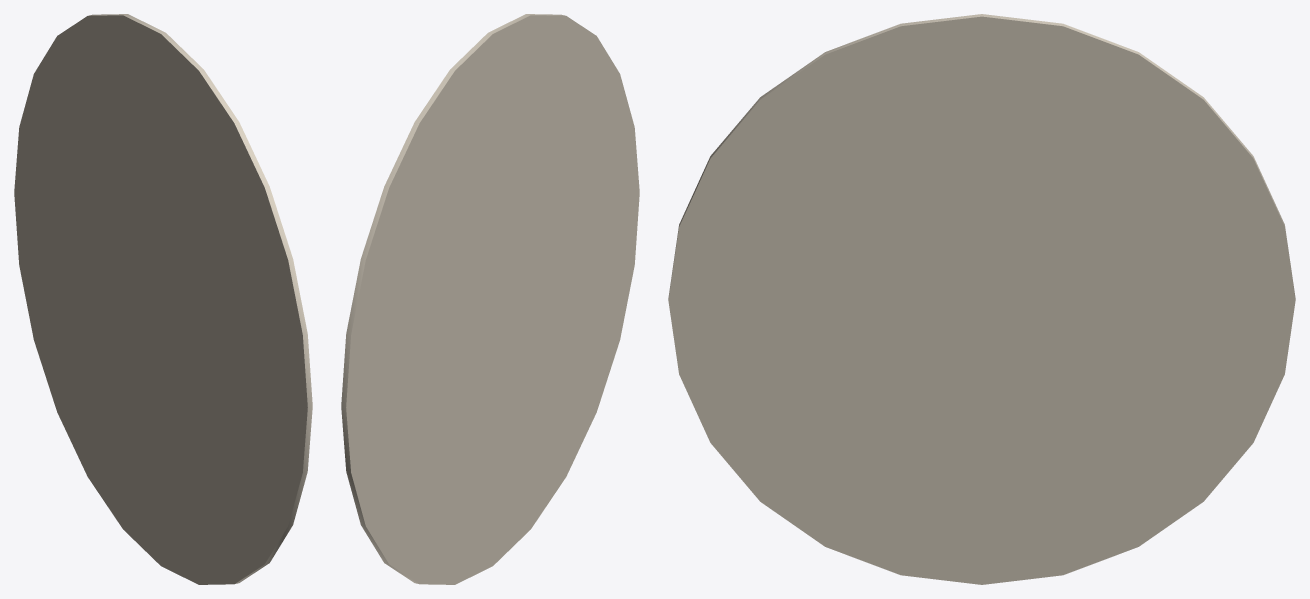
File: signstreet006a.fbx
The picture shows the model from 3 angles, left to right: view 1: azimuth 30°, elevation 25°; view 2: azimuth 150°, elevation 25°; view 3: azimuth 270°, elevation 25°; orthographic projection. The views are drawn at different scales.
Parts seen in each view (by area): view 1: streetsign002a_reference; view 2: streetsign002a_reference; view 3: streetsign002a_reference.
Boxes of the visible parts, x1=… form: streetsign002a_reference: x1=14, y1=14, x2=312, y2=584; streetsign002a_reference: x1=341, y1=14, x2=639, y2=584; streetsign002a_reference: x1=668, y1=14, x2=1295, y2=584.
Size of the model in its own units: 23.04 by 2371 by 2371.
